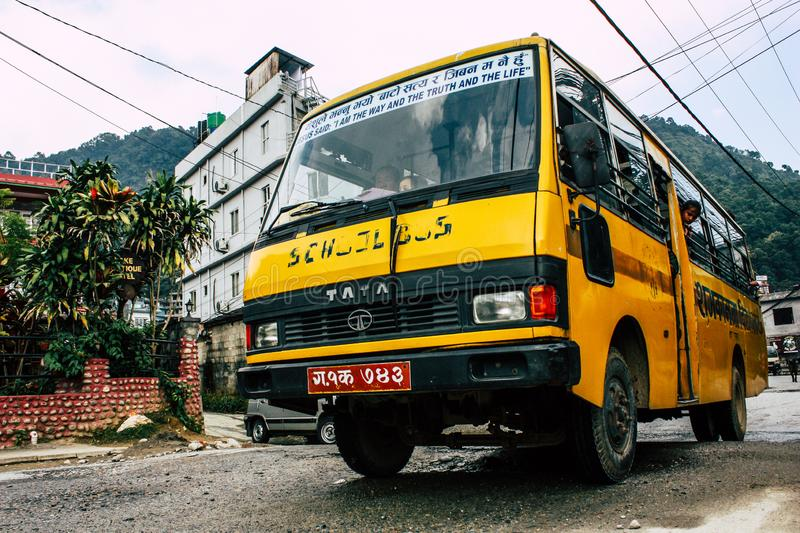number plate: (307, 362, 412, 396)
